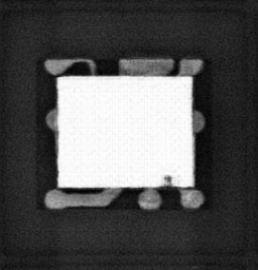DIE_INK: (163, 173, 173, 182)
